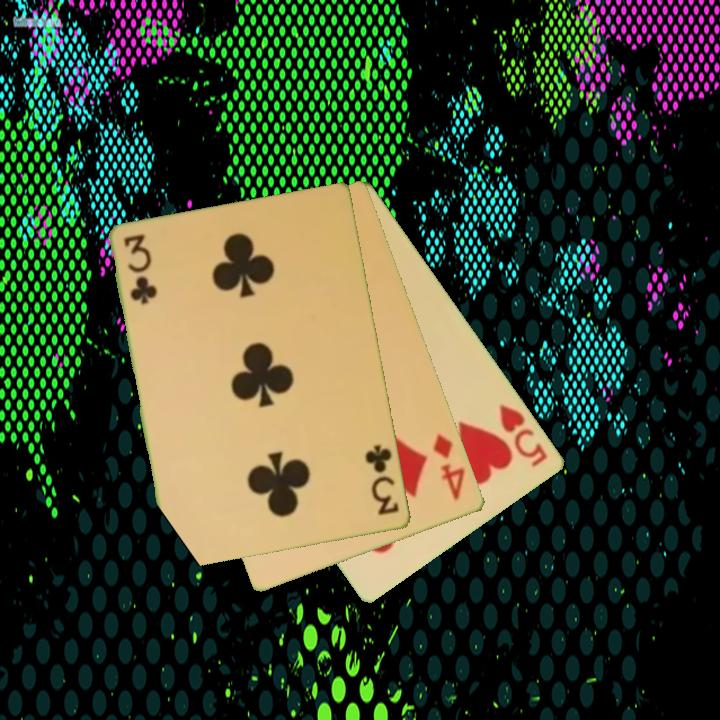3c: (362, 441, 402, 519), (120, 231, 157, 308)
4d: (430, 430, 469, 503)
5h: (496, 400, 551, 471)
